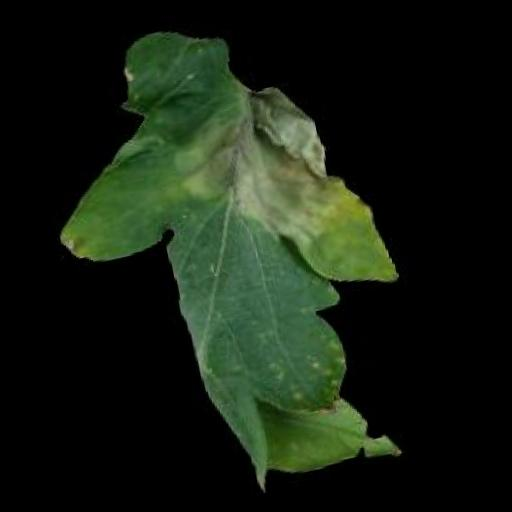Late Blight: (29, 0, 437, 511)
